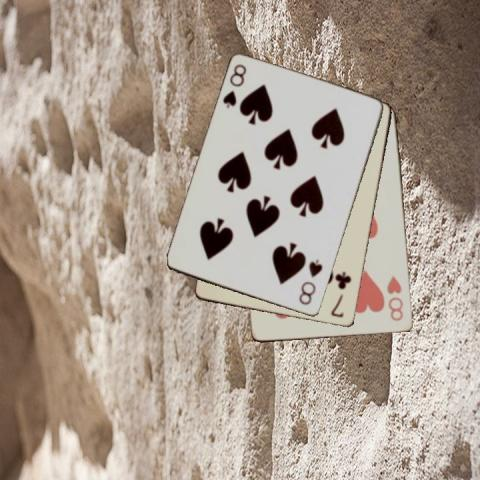7c: (328, 269, 352, 319)
8h: (384, 272, 405, 322)
8s: (296, 256, 325, 306), (220, 61, 249, 111)
